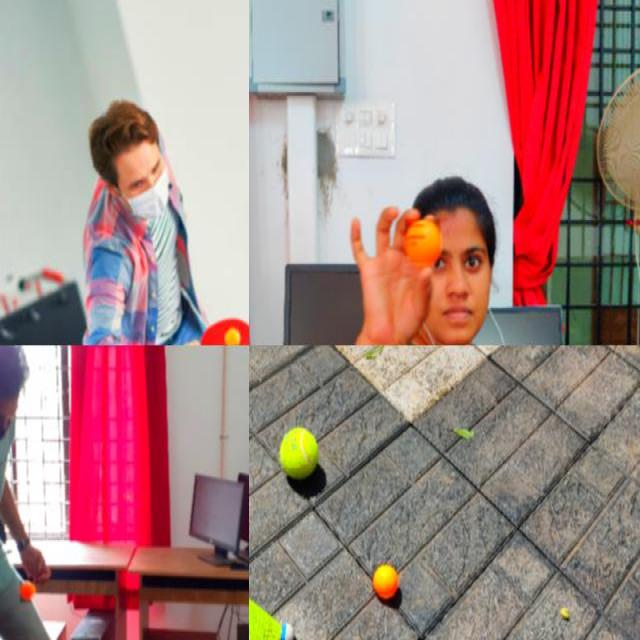ping-pong-ball: (405, 219, 441, 264), (372, 563, 398, 597), (20, 578, 34, 603), (225, 327, 239, 344)
